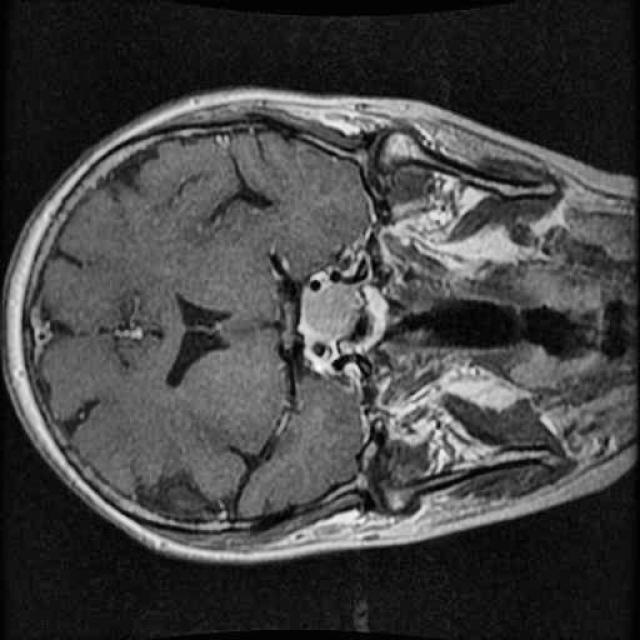Tumor: (289, 270, 379, 346)
